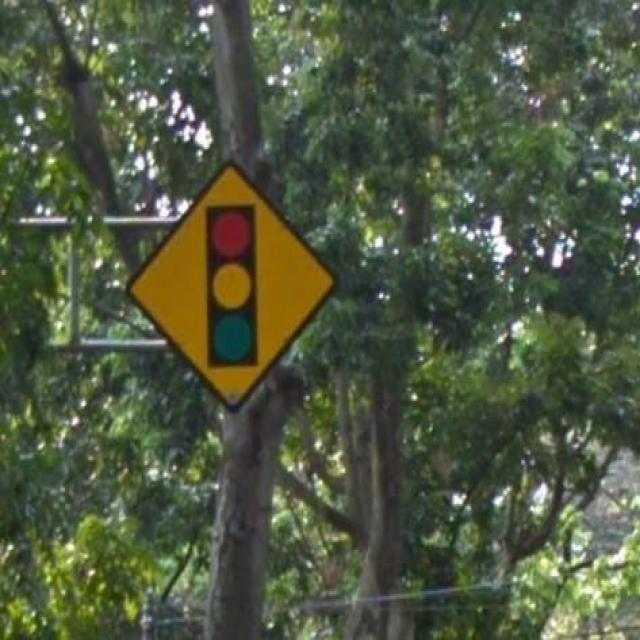traffic sign: (127, 165, 338, 402)
